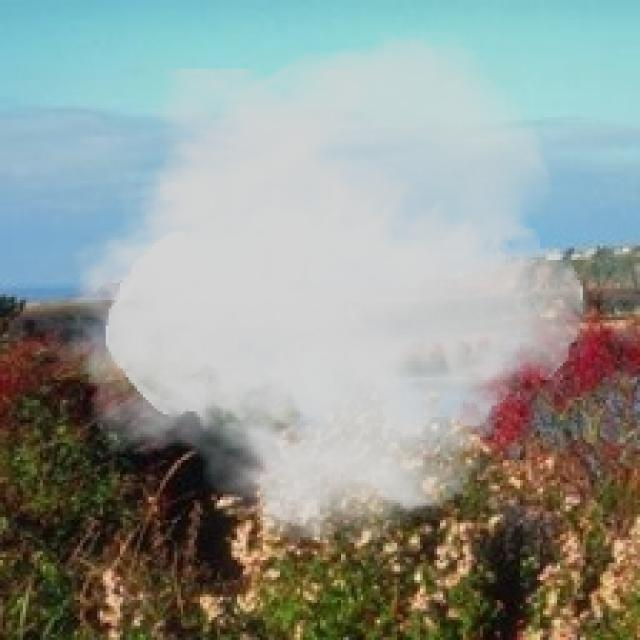smoke: (51, 23, 586, 551)
